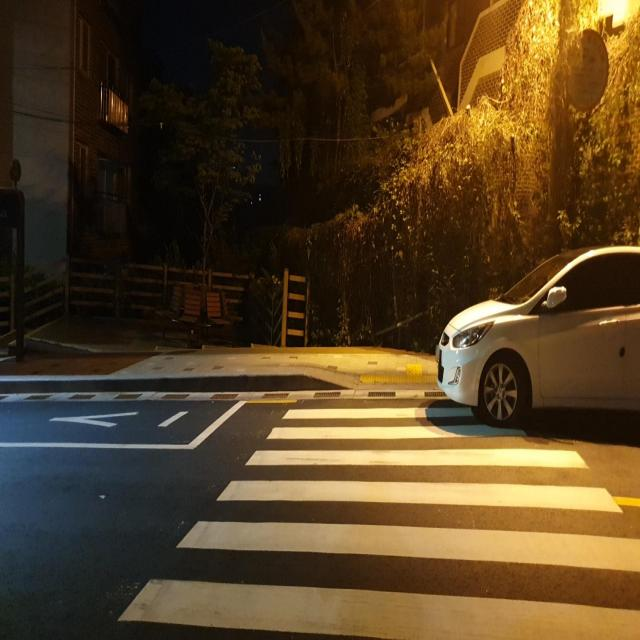횡단보도: (114, 401, 640, 640)
